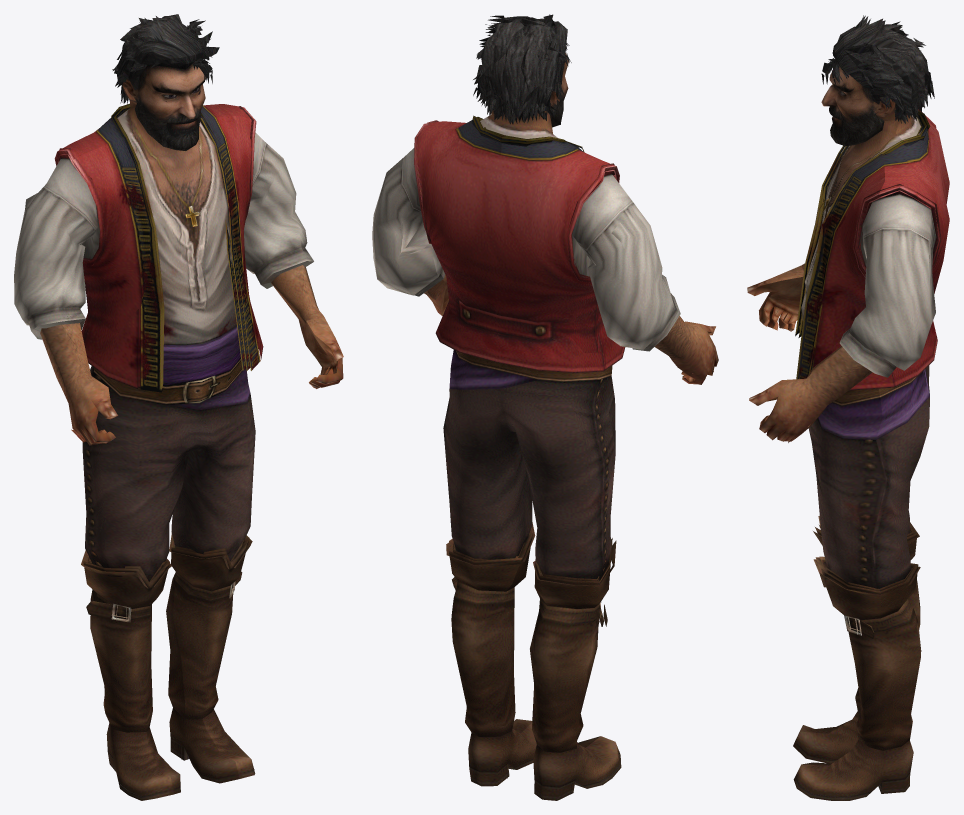
The model's file is Чел2.fbx.
3 views of the same model, side by side, from view 1: azimuth 30°, elevation 25°; view 2: azimuth 150°, elevation 25°; view 3: azimuth 270°, elevation 25° (orthographic). The views are drawn at different scales.
Parts seen in each view (by area): view 1: objpolySurface5; view 2: objpolySurface5; view 3: objpolySurface5.
Part boxes in pixels (left/top/right/bottom): objpolySurface5: left=14, top=14, right=343, bottom=800; objpolySurface5: left=372, top=14, right=718, bottom=800; objpolySurface5: left=747, top=15, right=949, bottom=800.
Bounding box in the file's own units: 0.7129 × 1.82 × 0.4446.
